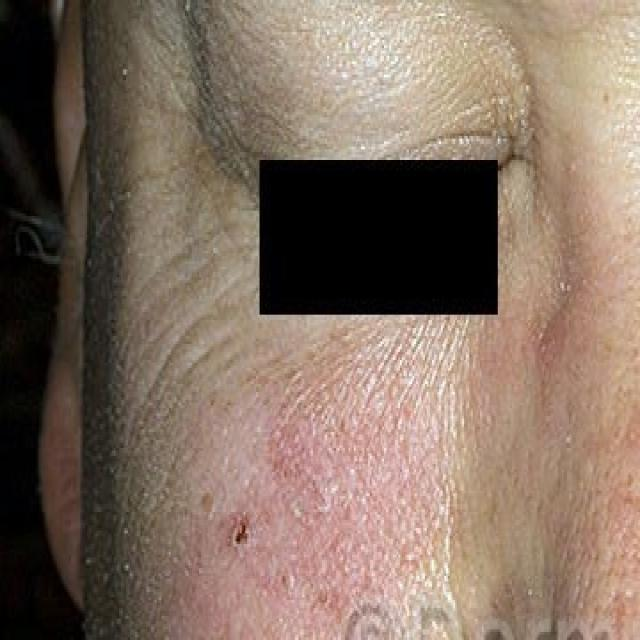Rosacea: (174, 365, 423, 633)
